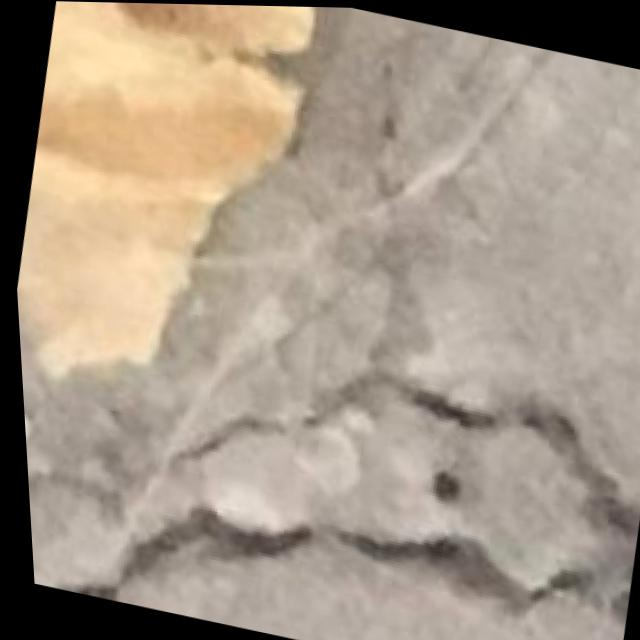Crack: (13, 275, 640, 626), (48, 445, 631, 640)
